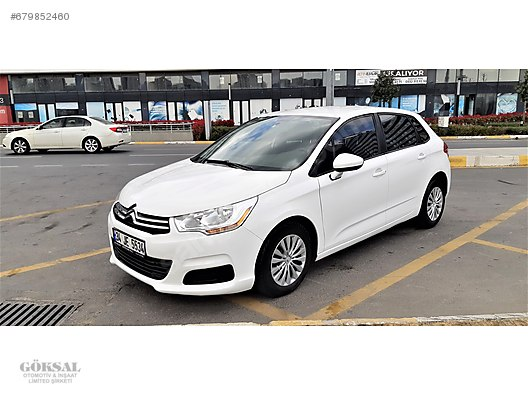citroen: (103, 102, 457, 300)
